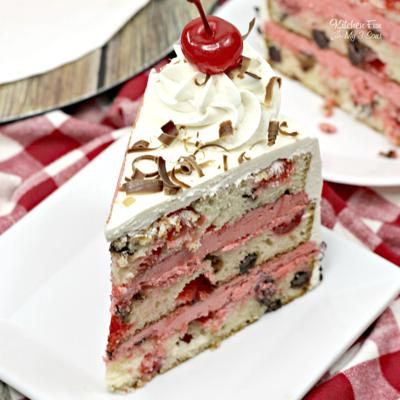cake: (104, 43, 332, 400)
